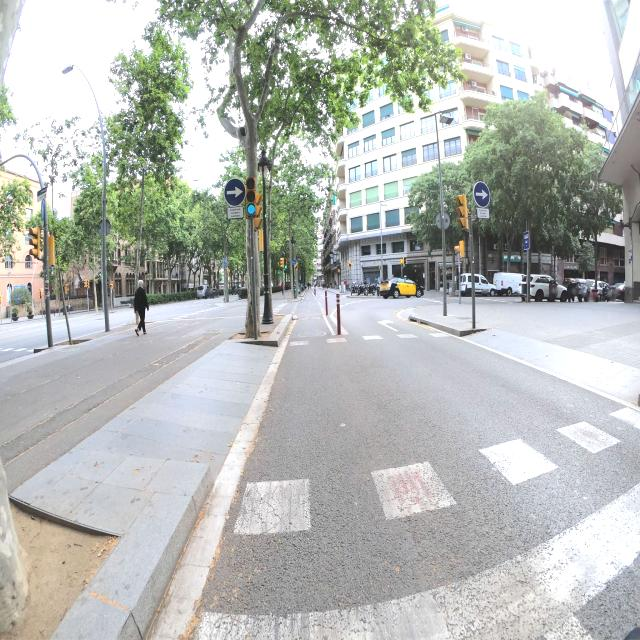bike: (364, 279, 376, 296), (350, 280, 359, 296), (357, 281, 366, 296)
car: (520, 273, 566, 303), (378, 276, 426, 299), (455, 273, 496, 297), (492, 271, 526, 297), (566, 278, 600, 302), (604, 282, 626, 301), (196, 284, 209, 298), (238, 283, 248, 298)
